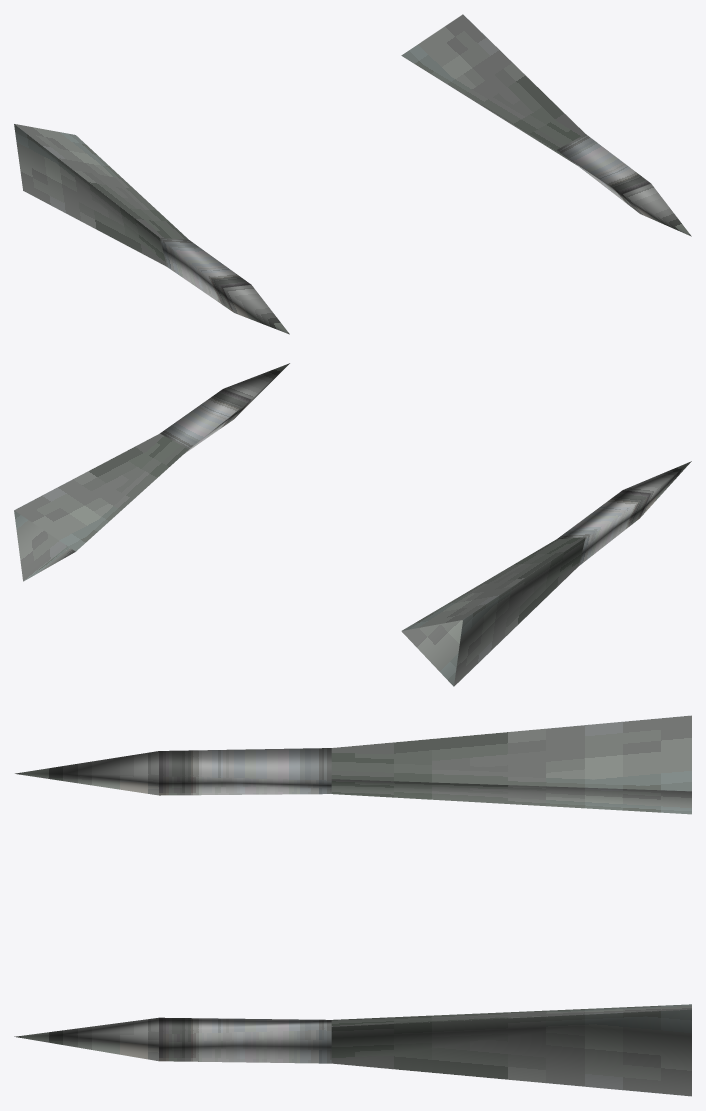
Rendered from hutt_fighter_heavy_weapon1_s05_l3.fbx.
3 views of the same model, one above another, from view 1: azimuth 30°, elevation 25°; view 2: azimuth 150°, elevation 25°; view 3: azimuth 270°, elevation 25° (orthographic). The views are drawn at different scales.
Visible parts, largest first — view 1: mesh_node; view 2: mesh_node; view 3: mesh_node.
Boxes of the visible parts, left/top/right/bottom form: mesh_node: left=14, top=14, right=691, bottom=334; mesh_node: left=14, top=363, right=691, bottom=686; mesh_node: left=14, top=715, right=691, bottom=1096.
Size of the model in its own units: 2.67 by 0.3929 by 2.6.
1 material, 1 textured.
